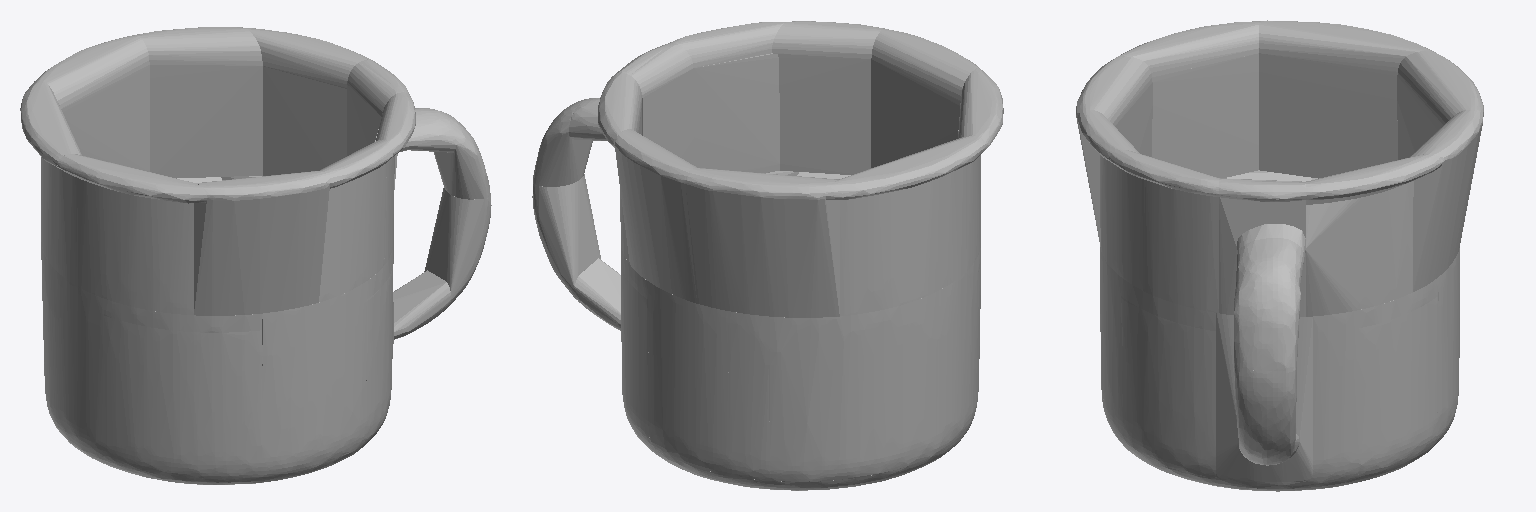
--- Facts derived from the render (not from the file) ---
The picture shows the robot from 3 angles, left to right: view 1: azimuth 30°, elevation 25°; view 2: azimuth 150°, elevation 25°; view 3: azimuth 270°, elevation 25°; orthographic projection.
Robot: root — 41 links, 40 joints (40 fixed); root link link_coacd_convex_piece_0; default pose: every joint at zero.
Links seen in each view (by area): view 1: link_coacd_convex_piece_26, link_coacd_convex_piece_1, link_coacd_convex_piece_5, link_coacd_convex_piece_11, link_coacd_convex_piece_24, link_coacd_convex_piece_2, link_coacd_convex_piece_15, link_coacd_convex_piece_10, link_coacd_convex_piece_21, link_coacd_convex_piece_38, link_coacd_convex_piece_0, link_coacd_convex_piece_8 (+15 smaller); view 2: link_coacd_convex_piece_37, link_coacd_convex_piece_2, link_coacd_convex_piece_12, link_coacd_convex_piece_21, link_coacd_convex_piece_1, link_coacd_convex_piece_5, link_coacd_convex_piece_17, link_coacd_convex_piece_40, link_coacd_convex_piece_36, link_coacd_convex_piece_34, link_coacd_convex_piece_15, link_coacd_convex_piece_35 (+13 smaller); view 3: link_coacd_convex_piece_12, link_coacd_convex_piece_14, link_coacd_convex_piece_10, link_coacd_convex_piece_27, link_coacd_convex_piece_11, link_coacd_convex_piece_17, link_coacd_convex_piece_5, link_coacd_convex_piece_9, link_coacd_convex_piece_19, link_coacd_convex_piece_2, link_coacd_convex_piece_1, link_coacd_convex_piece_7 (+18 smaller).
Boxes of the visible links, left/top/right/bottom form: link_coacd_convex_piece_26: left=104, top=316, right=262, bottom=477; link_coacd_convex_piece_1: left=194, top=171, right=329, bottom=315; link_coacd_convex_piece_5: left=137, top=27, right=262, bottom=178; link_coacd_convex_piece_11: left=77, top=178, right=193, bottom=314; link_coacd_convex_piece_24: left=260, top=300, right=326, bottom=474; link_coacd_convex_piece_2: left=38, top=35, right=149, bottom=171; link_coacd_convex_piece_15: left=53, top=268, right=108, bottom=458; link_coacd_convex_piece_10: left=263, top=66, right=346, bottom=175; link_coacd_convex_piece_21: left=319, top=163, right=386, bottom=301; link_coacd_convex_piece_38: left=324, top=281, right=366, bottom=461; link_coacd_convex_piece_0: left=424, top=188, right=491, bottom=305; link_coacd_convex_piece_8: left=246, top=28, right=370, bottom=88; link_coacd_convex_piece_37: left=769, top=305, right=903, bottom=481; link_coacd_convex_piece_2: left=685, top=168, right=839, bottom=317; link_coacd_convex_piece_12: left=840, top=165, right=966, bottom=315; link_coacd_convex_piece_21: left=778, top=54, right=870, bottom=174; link_coacd_convex_piece_1: left=871, top=29, right=978, bottom=167; link_coacd_convex_piece_5: left=615, top=129, right=696, bottom=303; link_coacd_convex_piece_17: left=694, top=53, right=779, bottom=172; link_coacd_convex_piece_40: left=728, top=311, right=771, bottom=480; link_coacd_convex_piece_36: left=648, top=281, right=690, bottom=465; link_coacd_convex_piece_34: left=689, top=301, right=730, bottom=475; link_coacd_convex_piece_15: left=934, top=257, right=977, bottom=455; link_coacd_convex_piece_35: left=897, top=291, right=938, bottom=468; link_coacd_convex_piece_12: left=1259, top=54, right=1397, bottom=178; link_coacd_convex_piece_14: left=1121, top=296, right=1215, bottom=477; link_coacd_convex_piece_10: left=1306, top=181, right=1413, bottom=316; link_coacd_convex_piece_27: left=1359, top=297, right=1438, bottom=473; link_coacd_convex_piece_11: left=1152, top=53, right=1258, bottom=177; link_coacd_convex_piece_17: left=1145, top=180, right=1218, bottom=312; link_coacd_convex_piece_5: left=1409, top=110, right=1482, bottom=291; link_coacd_convex_piece_9: left=1313, top=310, right=1358, bottom=480; link_coacd_convex_piece_19: left=1234, top=267, right=1300, bottom=370; link_coacd_convex_piece_2: left=1397, top=51, right=1483, bottom=159; link_coacd_convex_piece_1: left=1076, top=56, right=1152, bottom=246; link_coacd_convex_piece_7: left=1259, top=20, right=1433, bottom=72.
Bounding box of the posed robot: 1.62 × 1.29 × 1.14 m (x, y, z).
41 mesh visuals loaded from 41 distinct referenced files (41 OBJ).

URDF robot description (root):
<robot name="root">
  <link name="link_coacd_convex_piece_0">
    <inertial>
      <origin xyz="0 0 0" rpy="0 0 0"/>
      <inertia ixx="-5.64E-05" ixy="1.56E-04" ixz="4.06E-04" iyy="2.33E-03" iyz="-7.92E-06" izz="2.42E-03"/>
    </inertial>
    <visual>
      <origin xyz="0 0 0" rpy="0 0 0"/>
      <geometry>
        <mesh filename="coacd_convex_piece_0.obj" scale="1.0000E+00 1.0000E+00 1.0000E+00"/>
      </geometry>
      <material name="">
        <color rgba="7.50E-01 7.50E-01 7.50E-01 1"/>
      </material>
    </visual>
    <collision>
      <origin xyz="0 0 0" rpy="0 0 0"/>
      <geometry>
        <mesh filename="coacd_convex_piece_0.obj" scale="1.0000E+00 1.0000E+00 1.0000E+00"/>
      </geometry>
    </collision>
  </link>
  <link name="link_coacd_convex_piece_1">
    <inertial>
      <origin xyz="0 0 0" rpy="0 0 0"/>
      <inertia ixx="5.00E-03" ixy="-2.12E-03" ixz="1.77E-03" iyy="2.62E-03" iyz="2.43E-03" izz="4.86E-03"/>
    </inertial>
    <visual>
      <origin xyz="0 0 0" rpy="0 0 0"/>
      <geometry>
        <mesh filename="coacd_convex_piece_1.obj" scale="1.0000E+00 1.0000E+00 1.0000E+00"/>
      </geometry>
      <material name="">
        <color rgba="7.50E-01 7.50E-01 7.50E-01 1"/>
      </material>
    </visual>
    <collision>
      <origin xyz="0 0 0" rpy="0 0 0"/>
      <geometry>
        <mesh filename="coacd_convex_piece_1.obj" scale="1.0000E+00 1.0000E+00 1.0000E+00"/>
      </geometry>
    </collision>
  </link>
  <joint name="link_coacd_convex_piece_1_joint" type="fixed">
    <origin xyz="0 0 0" rpy="0 0 0"/>
    <parent link="link_coacd_convex_piece_0"/>
    <child link="link_coacd_convex_piece_1"/>
  </joint>
  <link name="link_coacd_convex_piece_2">
    <inertial>
      <origin xyz="0 0 0" rpy="0 0 0"/>
      <inertia ixx="5.86E-03" ixy="2.72E-03" ixz="2.26E-03" iyy="3.42E-03" iyz="-2.80E-03" izz="5.98E-03"/>
    </inertial>
    <visual>
      <origin xyz="0 0 0" rpy="0 0 0"/>
      <geometry>
        <mesh filename="coacd_convex_piece_2.obj" scale="1.0000E+00 1.0000E+00 1.0000E+00"/>
      </geometry>
      <material name="">
        <color rgba="7.50E-01 7.50E-01 7.50E-01 1"/>
      </material>
    </visual>
    <collision>
      <origin xyz="0 0 0" rpy="0 0 0"/>
      <geometry>
        <mesh filename="coacd_convex_piece_2.obj" scale="1.0000E+00 1.0000E+00 1.0000E+00"/>
      </geometry>
    </collision>
  </link>
  <joint name="link_coacd_convex_piece_2_joint" type="fixed">
    <origin xyz="0 0 0" rpy="0 0 0"/>
    <parent link="link_coacd_convex_piece_1"/>
    <child link="link_coacd_convex_piece_2"/>
  </joint>
  <link name="link_coacd_convex_piece_3">
    <inertial>
      <origin xyz="0 0 0" rpy="0 0 0"/>
      <inertia ixx="1.44E-04" ixy="4.68E-05" ixz="4.10E-04" iyy="7.30E-04" iyz="-2.02E-05" izz="6.02E-04"/>
    </inertial>
    <visual>
      <origin xyz="0 0 0" rpy="0 0 0"/>
      <geometry>
        <mesh filename="coacd_convex_piece_3.obj" scale="1.0000E+00 1.0000E+00 1.0000E+00"/>
      </geometry>
      <material name="">
        <color rgba="7.50E-01 7.50E-01 7.50E-01 1"/>
      </material>
    </visual>
    <collision>
      <origin xyz="0 0 0" rpy="0 0 0"/>
      <geometry>
        <mesh filename="coacd_convex_piece_3.obj" scale="1.0000E+00 1.0000E+00 1.0000E+00"/>
      </geometry>
    </collision>
  </link>
  <joint name="link_coacd_convex_piece_3_joint" type="fixed">
    <origin xyz="0 0 0" rpy="0 0 0"/>
    <parent link="link_coacd_convex_piece_2"/>
    <child link="link_coacd_convex_piece_3"/>
  </joint>
  <link name="link_coacd_convex_piece_4">
    <inertial>
      <origin xyz="0 0 0" rpy="0 0 0"/>
      <inertia ixx="1.12E-02" ixy="7.18E-05" ixz="-2.10E-03" iyy="1.15E-02" iyz="1.07E-04" izz="5.13E-03"/>
    </inertial>
    <visual>
      <origin xyz="0 0 0" rpy="0 0 0"/>
      <geometry>
        <mesh filename="coacd_convex_piece_4.obj" scale="1.0000E+00 1.0000E+00 1.0000E+00"/>
      </geometry>
      <material name="">
        <color rgba="7.50E-01 7.50E-01 7.50E-01 1"/>
      </material>
    </visual>
    <collision>
      <origin xyz="0 0 0" rpy="0 0 0"/>
      <geometry>
        <mesh filename="coacd_convex_piece_4.obj" scale="1.0000E+00 1.0000E+00 1.0000E+00"/>
      </geometry>
    </collision>
  </link>
  <joint name="link_coacd_convex_piece_4_joint" type="fixed">
    <origin xyz="0 0 0" rpy="0 0 0"/>
    <parent link="link_coacd_convex_piece_3"/>
    <child link="link_coacd_convex_piece_4"/>
  </joint>
  <link name="link_coacd_convex_piece_5">
    <inertial>
      <origin xyz="0 0 0" rpy="0 0 0"/>
      <inertia ixx="3.93E-03" ixy="-2.69E-04" ixz="4.60E-05" iyy="1.06E-03" iyz="-1.90E-03" izz="2.72E-03"/>
    </inertial>
    <visual>
      <origin xyz="0 0 0" rpy="0 0 0"/>
      <geometry>
        <mesh filename="coacd_convex_piece_5.obj" scale="1.0000E+00 1.0000E+00 1.0000E+00"/>
      </geometry>
      <material name="">
        <color rgba="7.50E-01 7.50E-01 7.50E-01 1"/>
      </material>
    </visual>
    <collision>
      <origin xyz="0 0 0" rpy="0 0 0"/>
      <geometry>
        <mesh filename="coacd_convex_piece_5.obj" scale="1.0000E+00 1.0000E+00 1.0000E+00"/>
      </geometry>
    </collision>
  </link>
  <joint name="link_coacd_convex_piece_5_joint" type="fixed">
    <origin xyz="0 0 0" rpy="0 0 0"/>
    <parent link="link_coacd_convex_piece_4"/>
    <child link="link_coacd_convex_piece_5"/>
  </joint>
  <link name="link_coacd_convex_piece_6">
    <inertial>
      <origin xyz="0 0 0" rpy="0 0 0"/>
      <inertia ixx="7.58E-04" ixy="-3.93E-04" ixz="8.27E-04" iyy="1.47E-03" iyz="3.37E-04" izz="1.13E-03"/>
    </inertial>
    <visual>
      <origin xyz="0 0 0" rpy="0 0 0"/>
      <geometry>
        <mesh filename="coacd_convex_piece_6.obj" scale="1.0000E+00 1.0000E+00 1.0000E+00"/>
      </geometry>
      <material name="">
        <color rgba="7.50E-01 7.50E-01 7.50E-01 1"/>
      </material>
    </visual>
    <collision>
      <origin xyz="0 0 0" rpy="0 0 0"/>
      <geometry>
        <mesh filename="coacd_convex_piece_6.obj" scale="1.0000E+00 1.0000E+00 1.0000E+00"/>
      </geometry>
    </collision>
  </link>
  <joint name="link_coacd_convex_piece_6_joint" type="fixed">
    <origin xyz="0 0 0" rpy="0 0 0"/>
    <parent link="link_coacd_convex_piece_5"/>
    <child link="link_coacd_convex_piece_6"/>
  </joint>
  <link name="link_coacd_convex_piece_7">
    <inertial>
      <origin xyz="0 0 0" rpy="0 0 0"/>
      <inertia ixx="8.98E-04" ixy="3.78E-04" ixz="1.13E-03" iyy="2.05E-03" iyz="-3.00E-04" izz="1.49E-03"/>
    </inertial>
    <visual>
      <origin xyz="0 0 0" rpy="0 0 0"/>
      <geometry>
        <mesh filename="coacd_convex_piece_7.obj" scale="1.0000E+00 1.0000E+00 1.0000E+00"/>
      </geometry>
      <material name="">
        <color rgba="7.50E-01 7.50E-01 7.50E-01 1"/>
      </material>
    </visual>
    <collision>
      <origin xyz="0 0 0" rpy="0 0 0"/>
      <geometry>
        <mesh filename="coacd_convex_piece_7.obj" scale="1.0000E+00 1.0000E+00 1.0000E+00"/>
      </geometry>
    </collision>
  </link>
  <joint name="link_coacd_convex_piece_7_joint" type="fixed">
    <origin xyz="0 0 0" rpy="0 0 0"/>
    <parent link="link_coacd_convex_piece_6"/>
    <child link="link_coacd_convex_piece_7"/>
  </joint>
  <link name="link_coacd_convex_piece_8">
    <inertial>
      <origin xyz="0 0 0" rpy="0 0 0"/>
      <inertia ixx="7.06E-04" ixy="-1.85E-04" ixz="-3.26E-04" iyy="7.31E-04" iyz="-3.06E-04" izz="3.97E-04"/>
    </inertial>
    <visual>
      <origin xyz="0 0 0" rpy="0 0 0"/>
      <geometry>
        <mesh filename="coacd_convex_piece_8.obj" scale="1.0000E+00 1.0000E+00 1.0000E+00"/>
      </geometry>
      <material name="">
        <color rgba="7.50E-01 7.50E-01 7.50E-01 1"/>
      </material>
    </visual>
    <collision>
      <origin xyz="0 0 0" rpy="0 0 0"/>
      <geometry>
        <mesh filename="coacd_convex_piece_8.obj" scale="1.0000E+00 1.0000E+00 1.0000E+00"/>
      </geometry>
    </collision>
  </link>
  <joint name="link_coacd_convex_piece_8_joint" type="fixed">
    <origin xyz="0 0 0" rpy="0 0 0"/>
    <parent link="link_coacd_convex_piece_7"/>
    <child link="link_coacd_convex_piece_8"/>
  </joint>
  <link name="link_coacd_convex_piece_9">
    <inertial>
      <origin xyz="0 0 0" rpy="0 0 0"/>
      <inertia ixx="8.65E-04" ixy="-5.23E-04" ixz="9.92E-04" iyy="1.03E-03" iyz="5.24E-04" izz="1.03E-03"/>
    </inertial>
    <visual>
      <origin xyz="0 0 0" rpy="0 0 0"/>
      <geometry>
        <mesh filename="coacd_convex_piece_9.obj" scale="1.0000E+00 1.0000E+00 1.0000E+00"/>
      </geometry>
      <material name="">
        <color rgba="7.50E-01 7.50E-01 7.50E-01 1"/>
      </material>
    </visual>
    <collision>
      <origin xyz="0 0 0" rpy="0 0 0"/>
      <geometry>
        <mesh filename="coacd_convex_piece_9.obj" scale="1.0000E+00 1.0000E+00 1.0000E+00"/>
      </geometry>
    </collision>
  </link>
  <joint name="link_coacd_convex_piece_9_joint" type="fixed">
    <origin xyz="0 0 0" rpy="0 0 0"/>
    <parent link="link_coacd_convex_piece_8"/>
    <child link="link_coacd_convex_piece_9"/>
  </joint>
  <link name="link_coacd_convex_piece_10">
    <inertial>
      <origin xyz="0 0 0" rpy="0 0 0"/>
      <inertia ixx="6.14E-04" ixy="-3.59E-04" ixz="-3.31E-04" iyy="7.37E-04" iyz="-3.25E-04" izz="7.69E-04"/>
    </inertial>
    <visual>
      <origin xyz="0 0 0" rpy="0 0 0"/>
      <geometry>
        <mesh filename="coacd_convex_piece_10.obj" scale="1.0000E+00 1.0000E+00 1.0000E+00"/>
      </geometry>
      <material name="">
        <color rgba="7.50E-01 7.50E-01 7.50E-01 1"/>
      </material>
    </visual>
    <collision>
      <origin xyz="0 0 0" rpy="0 0 0"/>
      <geometry>
        <mesh filename="coacd_convex_piece_10.obj" scale="1.0000E+00 1.0000E+00 1.0000E+00"/>
      </geometry>
    </collision>
  </link>
  <joint name="link_coacd_convex_piece_10_joint" type="fixed">
    <origin xyz="0 0 0" rpy="0 0 0"/>
    <parent link="link_coacd_convex_piece_9"/>
    <child link="link_coacd_convex_piece_10"/>
  </joint>
  <link name="link_coacd_convex_piece_11">
    <inertial>
      <origin xyz="0 0 0" rpy="0 0 0"/>
      <inertia ixx="8.49E-04" ixy="-9.59E-04" ixz="1.28E-03" iyy="2.77E-03" iyz="4.64E-04" izz="2.84E-03"/>
    </inertial>
    <visual>
      <origin xyz="0 0 0" rpy="0 0 0"/>
      <geometry>
        <mesh filename="coacd_convex_piece_11.obj" scale="1.0000E+00 1.0000E+00 1.0000E+00"/>
      </geometry>
      <material name="">
        <color rgba="7.50E-01 7.50E-01 7.50E-01 1"/>
      </material>
    </visual>
    <collision>
      <origin xyz="0 0 0" rpy="0 0 0"/>
      <geometry>
        <mesh filename="coacd_convex_piece_11.obj" scale="1.0000E+00 1.0000E+00 1.0000E+00"/>
      </geometry>
    </collision>
  </link>
  <joint name="link_coacd_convex_piece_11_joint" type="fixed">
    <origin xyz="0 0 0" rpy="0 0 0"/>
    <parent link="link_coacd_convex_piece_10"/>
    <child link="link_coacd_convex_piece_11"/>
  </joint>
  <link name="link_coacd_convex_piece_12">
    <inertial>
      <origin xyz="0 0 0" rpy="0 0 0"/>
      <inertia ixx="9.77E-04" ixy="1.00E-03" ixz="1.94E-03" iyy="4.35E-03" iyz="-4.31E-04" izz="4.19E-03"/>
    </inertial>
    <visual>
      <origin xyz="0 0 0" rpy="0 0 0"/>
      <geometry>
        <mesh filename="coacd_convex_piece_12.obj" scale="1.0000E+00 1.0000E+00 1.0000E+00"/>
      </geometry>
      <material name="">
        <color rgba="7.50E-01 7.50E-01 7.50E-01 1"/>
      </material>
    </visual>
    <collision>
      <origin xyz="0 0 0" rpy="0 0 0"/>
      <geometry>
        <mesh filename="coacd_convex_piece_12.obj" scale="1.0000E+00 1.0000E+00 1.0000E+00"/>
      </geometry>
    </collision>
  </link>
  <joint name="link_coacd_convex_piece_12_joint" type="fixed">
    <origin xyz="0 0 0" rpy="0 0 0"/>
    <parent link="link_coacd_convex_piece_11"/>
    <child link="link_coacd_convex_piece_12"/>
  </joint>
  <link name="link_coacd_convex_piece_13">
    <inertial>
      <origin xyz="0 0 0" rpy="0 0 0"/>
      <inertia ixx="7.75E-05" ixy="-5.49E-05" ixz="1.01E-05" iyy="3.50E-06" iyz="-1.11E-05" izz="1.24E-04"/>
    </inertial>
    <visual>
      <origin xyz="0 0 0" rpy="0 0 0"/>
      <geometry>
        <mesh filename="coacd_convex_piece_13.obj" scale="1.0000E+00 1.0000E+00 1.0000E+00"/>
      </geometry>
      <material name="">
        <color rgba="7.50E-01 7.50E-01 7.50E-01 1"/>
      </material>
    </visual>
    <collision>
      <origin xyz="0 0 0" rpy="0 0 0"/>
      <geometry>
        <mesh filename="coacd_convex_piece_13.obj" scale="1.0000E+00 1.0000E+00 1.0000E+00"/>
      </geometry>
    </collision>
  </link>
  <joint name="link_coacd_convex_piece_13_joint" type="fixed">
    <origin xyz="0 0 0" rpy="0 0 0"/>
    <parent link="link_coacd_convex_piece_12"/>
    <child link="link_coacd_convex_piece_13"/>
  </joint>
  <link name="link_coacd_convex_piece_14">
    <inertial>
      <origin xyz="0 0 0" rpy="0 0 0"/>
      <inertia ixx="2.39E-03" ixy="9.99E-04" ixz="1.17E-03" iyy="1.18E-03" iyz="-1.17E-03" izz="2.06E-03"/>
    </inertial>
    <visual>
      <origin xyz="0 0 0" rpy="0 0 0"/>
      <geometry>
        <mesh filename="coacd_convex_piece_14.obj" scale="1.0000E+00 1.0000E+00 1.0000E+00"/>
      </geometry>
      <material name="">
        <color rgba="7.50E-01 7.50E-01 7.50E-01 1"/>
      </material>
    </visual>
    <collision>
      <origin xyz="0 0 0" rpy="0 0 0"/>
      <geometry>
        <mesh filename="coacd_convex_piece_14.obj" scale="1.0000E+00 1.0000E+00 1.0000E+00"/>
      </geometry>
    </collision>
  </link>
  <joint name="link_coacd_convex_piece_14_joint" type="fixed">
    <origin xyz="0 0 0" rpy="0 0 0"/>
    <parent link="link_coacd_convex_piece_13"/>
    <child link="link_coacd_convex_piece_14"/>
  </joint>
  <link name="link_coacd_convex_piece_15">
    <inertial>
      <origin xyz="0 0 0" rpy="0 0 0"/>
      <inertia ixx="1.14E-03" ixy="-6.66E-04" ixz="-2.69E-03" iyy="9.68E-03" iyz="-2.23E-04" izz="9.02E-03"/>
    </inertial>
    <visual>
      <origin xyz="0 0 0" rpy="0 0 0"/>
      <geometry>
        <mesh filename="coacd_convex_piece_15.obj" scale="1.0000E+00 1.0000E+00 1.0000E+00"/>
      </geometry>
      <material name="">
        <color rgba="7.50E-01 7.50E-01 7.50E-01 1"/>
      </material>
    </visual>
    <collision>
      <origin xyz="0 0 0" rpy="0 0 0"/>
      <geometry>
        <mesh filename="coacd_convex_piece_15.obj" scale="1.0000E+00 1.0000E+00 1.0000E+00"/>
      </geometry>
    </collision>
  </link>
  <joint name="link_coacd_convex_piece_15_joint" type="fixed">
    <origin xyz="0 0 0" rpy="0 0 0"/>
    <parent link="link_coacd_convex_piece_14"/>
    <child link="link_coacd_convex_piece_15"/>
  </joint>
  <link name="link_coacd_convex_piece_16">
    <inertial>
      <origin xyz="0 0 0" rpy="0 0 0"/>
      <inertia ixx="5.21E-04" ixy="1.42E-04" ixz="-1.87E-04" iyy="4.49E-04" iyz="2.58E-04" izz="2.84E-04"/>
    </inertial>
    <visual>
      <origin xyz="0 0 0" rpy="0 0 0"/>
      <geometry>
        <mesh filename="coacd_convex_piece_16.obj" scale="1.0000E+00 1.0000E+00 1.0000E+00"/>
      </geometry>
      <material name="">
        <color rgba="7.50E-01 7.50E-01 7.50E-01 1"/>
      </material>
    </visual>
    <collision>
      <origin xyz="0 0 0" rpy="0 0 0"/>
      <geometry>
        <mesh filename="coacd_convex_piece_16.obj" scale="1.0000E+00 1.0000E+00 1.0000E+00"/>
      </geometry>
    </collision>
  </link>
  <joint name="link_coacd_convex_piece_16_joint" type="fixed">
    <origin xyz="0 0 0" rpy="0 0 0"/>
    <parent link="link_coacd_convex_piece_15"/>
    <child link="link_coacd_convex_piece_16"/>
  </joint>
  <link name="link_coacd_convex_piece_17">
    <inertial>
      <origin xyz="0 0 0" rpy="0 0 0"/>
      <inertia ixx="6.45E-04" ixy="3.31E-04" ixz="-2.08E-04" iyy="4.70E-04" iyz="3.57E-04" izz="6.32E-04"/>
    </inertial>
    <visual>
      <origin xyz="0 0 0" rpy="0 0 0"/>
      <geometry>
        <mesh filename="coacd_convex_piece_17.obj" scale="1.0000E+00 1.0000E+00 1.0000E+00"/>
      </geometry>
      <material name="">
        <color rgba="7.50E-01 7.50E-01 7.50E-01 1"/>
      </material>
    </visual>
    <collision>
      <origin xyz="0 0 0" rpy="0 0 0"/>
      <geometry>
        <mesh filename="coacd_convex_piece_17.obj" scale="1.0000E+00 1.0000E+00 1.0000E+00"/>
      </geometry>
    </collision>
  </link>
  <joint name="link_coacd_convex_piece_17_joint" type="fixed">
    <origin xyz="0 0 0" rpy="0 0 0"/>
    <parent link="link_coacd_convex_piece_16"/>
    <child link="link_coacd_convex_piece_17"/>
  </joint>
  <link name="link_coacd_convex_piece_18">
    <inertial>
      <origin xyz="0 0 0" rpy="0 0 0"/>
      <inertia ixx="8.78E-05" ixy="7.36E-05" ixz="1.27E-05" iyy="1.15E-05" iyz="1.68E-05" izz="1.55E-04"/>
    </inertial>
    <visual>
      <origin xyz="0 0 0" rpy="0 0 0"/>
      <geometry>
        <mesh filename="coacd_convex_piece_18.obj" scale="1.0000E+00 1.0000E+00 1.0000E+00"/>
      </geometry>
      <material name="">
        <color rgba="7.50E-01 7.50E-01 7.50E-01 1"/>
      </material>
    </visual>
    <collision>
      <origin xyz="0 0 0" rpy="0 0 0"/>
      <geometry>
        <mesh filename="coacd_convex_piece_18.obj" scale="1.0000E+00 1.0000E+00 1.0000E+00"/>
      </geometry>
    </collision>
  </link>
  <joint name="link_coacd_convex_piece_18_joint" type="fixed">
    <origin xyz="0 0 0" rpy="0 0 0"/>
    <parent link="link_coacd_convex_piece_17"/>
    <child link="link_coacd_convex_piece_18"/>
  </joint>
  <link name="link_coacd_convex_piece_19">
    <inertial>
      <origin xyz="0 0 0" rpy="0 0 0"/>
      <inertia ixx="5.36E-05" ixy="1.02E-04" ixz="-3.85E-04" iyy="1.67E-03" iyz="3.27E-05" izz="1.65E-03"/>
    </inertial>
    <visual>
      <origin xyz="0 0 0" rpy="0 0 0"/>
      <geometry>
        <mesh filename="coacd_convex_piece_19.obj" scale="1.0000E+00 1.0000E+00 1.0000E+00"/>
      </geometry>
      <material name="">
        <color rgba="7.50E-01 7.50E-01 7.50E-01 1"/>
      </material>
    </visual>
    <collision>
      <origin xyz="0 0 0" rpy="0 0 0"/>
      <geometry>
        <mesh filename="coacd_convex_piece_19.obj" scale="1.0000E+00 1.0000E+00 1.0000E+00"/>
      </geometry>
    </collision>
  </link>
  <joint name="link_coacd_convex_piece_19_joint" type="fixed">
    <origin xyz="0 0 0" rpy="0 0 0"/>
    <parent link="link_coacd_convex_piece_18"/>
    <child link="link_coacd_convex_piece_19"/>
  </joint>
  <link name="link_coacd_convex_piece_20">
    <inertial>
      <origin xyz="0 0 0" rpy="0 0 0"/>
      <inertia ixx="7.12E-04" ixy="2.58E-05" ixz="6.51E-06" iyy="3.10E-04" iyz="3.79E-04" izz="3.73E-04"/>
    </inertial>
    <visual>
      <origin xyz="0 0 0" rpy="0 0 0"/>
      <geometry>
        <mesh filename="coacd_convex_piece_20.obj" scale="1.0000E+00 1.0000E+00 1.0000E+00"/>
      </geometry>
      <material name="">
        <color rgba="7.50E-01 7.50E-01 7.50E-01 1"/>
      </material>
    </visual>
    <collision>
      <origin xyz="0 0 0" rpy="0 0 0"/>
      <geometry>
        <mesh filename="coacd_convex_piece_20.obj" scale="1.0000E+00 1.0000E+00 1.0000E+00"/>
      </geometry>
    </collision>
  </link>
  <joint name="link_coacd_convex_piece_20_joint" type="fixed">
    <origin xyz="0 0 0" rpy="0 0 0"/>
    <parent link="link_coacd_convex_piece_19"/>
    <child link="link_coacd_convex_piece_20"/>
  </joint>
  <link name="link_coacd_convex_piece_21">
    <inertial>
      <origin xyz="0 0 0" rpy="0 0 0"/>
      <inertia ixx="1.33E-03" ixy="8.22E-05" ixz="5.41E-05" iyy="2.26E-04" iyz="6.16E-04" izz="1.02E-03"/>
    </inertial>
    <visual>
      <origin xyz="0 0 0" rpy="0 0 0"/>
      <geometry>
        <mesh filename="coacd_convex_piece_21.obj" scale="1.0000E+00 1.0000E+00 1.0000E+00"/>
      </geometry>
      <material name="">
        <color rgba="7.50E-01 7.50E-01 7.50E-01 1"/>
      </material>
    </visual>
    <collision>
      <origin xyz="0 0 0" rpy="0 0 0"/>
      <geometry>
        <mesh filename="coacd_convex_piece_21.obj" scale="1.0000E+00 1.0000E+00 1.0000E+00"/>
      </geometry>
    </collision>
  </link>
  <joint name="link_coacd_convex_piece_21_joint" type="fixed">
    <origin xyz="0 0 0" rpy="0 0 0"/>
    <parent link="link_coacd_convex_piece_20"/>
    <child link="link_coacd_convex_piece_21"/>
  </joint>
  <link name="link_coacd_convex_piece_22">
    <inertial>
      <origin xyz="0 0 0" rpy="0 0 0"/>
      <inertia ixx="1.54E-04" ixy="3.98E-05" ixz="-3.13E-04" iyy="7.42E-04" iyz="2.47E-05" izz="6.03E-04"/>
    </inertial>
    <visual>
      <origin xyz="0 0 0" rpy="0 0 0"/>
      <geometry>
        <mesh filename="coacd_convex_piece_22.obj" scale="1.0000E+00 1.0000E+00 1.0000E+00"/>
      </geometry>
      <material name="">
        <color rgba="7.50E-01 7.50E-01 7.50E-01 1"/>
      </material>
    </visual>
    <collision>
      <origin xyz="0 0 0" rpy="0 0 0"/>
      <geometry>
        <mesh filename="coacd_convex_piece_22.obj" scale="1.0000E+00 1.0000E+00 1.0000E+00"/>
      </geometry>
    </collision>
  </link>
  <joint name="link_coacd_convex_piece_22_joint" type="fixed">
    <origin xyz="0 0 0" rpy="0 0 0"/>
    <parent link="link_coacd_convex_piece_21"/>
    <child link="link_coacd_convex_piece_22"/>
  </joint>
  <link name="link_coacd_convex_piece_23">
    <inertial>
      <origin xyz="0 0 0" rpy="0 0 0"/>
      <inertia ixx="3.34E-03" ixy="-1.26E-03" ixz="-3.86E-04" iyy="1.12E-03" iyz="-1.56E-03" izz="3.05E-03"/>
    </inertial>
    <visual>
      <origin xyz="0 0 0" rpy="0 0 0"/>
      <geometry>
        <mesh filename="coacd_convex_piece_23.obj" scale="1.0000E+00 1.0000E+00 1.0000E+00"/>
      </geometry>
      <material name="">
        <color rgba="7.50E-01 7.50E-01 7.50E-01 1"/>
      </material>
    </visual>
    <collision>
      <origin xyz="0 0 0" rpy="0 0 0"/>
      <geometry>
        <mesh filename="coacd_convex_piece_23.obj" scale="1.0000E+00 1.0000E+00 1.0000E+00"/>
      </geometry>
    </collision>
  </link>
  <joint name="link_coacd_convex_piece_23_joint" type="fixed">
    <origin xyz="0 0 0" rpy="0 0 0"/>
    <parent link="link_coacd_convex_piece_22"/>
    <child link="link_coacd_convex_piece_23"/>
  </joint>
  <link name="link_coacd_convex_piece_24">
    <inertial>
      <origin xyz="0 0 0" rpy="0 0 0"/>
      <inertia ixx="1.44E-03" ixy="-4.47E-04" ixz="-6.47E-05" iyy="2.63E-04" iyz="-4.83E-04" izz="1.37E-03"/>
    </inertial>
    <visual>
      <origin xyz="0 0 0" rpy="0 0 0"/>
      <geometry>
        <mesh filename="coacd_convex_piece_24.obj" scale="1.0000E+00 1.0000E+00 1.0000E+00"/>
      </geometry>
      <material name="">
        <color rgba="7.50E-01 7.50E-01 7.50E-01 1"/>
      </material>
    </visual>
    <collision>
      <origin xyz="0 0 0" rpy="0 0 0"/>
      <geometry>
        <mesh filename="coacd_convex_piece_24.obj" scale="1.0000E+00 1.0000E+00 1.0000E+00"/>
      </geometry>
    </collision>
  </link>
  <joint name="link_coacd_convex_piece_24_joint" type="fixed">
    <origin xyz="0 0 0" rpy="0 0 0"/>
    <parent link="link_coacd_convex_piece_23"/>
    <child link="link_coacd_convex_piece_24"/>
  </joint>
  <link name="link_coacd_convex_piece_25">
    <inertial>
      <origin xyz="0 0 0" rpy="0 0 0"/>
      <inertia ixx="4.60E-04" ixy="1.20E-04" ixz="-4.62E-04" iyy="1.01E-03" iyz="1.08E-04" izz="6.44E-04"/>
    </inertial>
    <visual>
      <origin xyz="0 0 0" rpy="0 0 0"/>
      <geometry>
        <mesh filename="coacd_convex_piece_25.obj" scale="1.0000E+00 1.0000E+00 1.0000E+00"/>
      </geometry>
      <material name="">
        <color rgba="7.50E-01 7.50E-01 7.50E-01 1"/>
      </material>
    </visual>
    <collision>
      <origin xyz="0 0 0" rpy="0 0 0"/>
      <geometry>
        <mesh filename="coacd_convex_piece_25.obj" scale="1.0000E+00 1.0000E+00 1.0000E+00"/>
      </geometry>
    </collision>
  </link>
  <joint name="link_coacd_convex_piece_25_joint" type="fixed">
    <origin xyz="0 0 0" rpy="0 0 0"/>
    <parent link="link_coacd_convex_piece_24"/>
    <child link="link_coacd_convex_piece_25"/>
  </joint>
  <link name="link_coacd_convex_piece_26">
    <inertial>
      <origin xyz="0 0 0" rpy="0 0 0"/>
      <inertia ixx="4.61E-03" ixy="-4.24E-03" ixz="-2.43E-03" iyy="7.13E-03" iyz="-2.19E-03" izz="9.25E-03"/>
    </inertial>
    <visual>
      <origin xyz="0 0 0" rpy="0 0 0"/>
      <geometry>
        <mesh filename="coacd_convex_piece_26.obj" scale="1.0000E+00 1.0000E+00 1.0000E+00"/>
      </geometry>
      <material name="">
        <color rgba="7.50E-01 7.50E-01 7.50E-01 1"/>
      </material>
    </visual>
    <collision>
      <origin xyz="0 0 0" rpy="0 0 0"/>
      <geometry>
        <mesh filename="coacd_convex_piece_26.obj" scale="1.0000E+00 1.0000E+00 1.0000E+00"/>
      </geometry>
    </collision>
  </link>
  <joint name="link_coacd_convex_piece_26_joint" type="fixed">
    <origin xyz="0 0 0" rpy="0 0 0"/>
    <parent link="link_coacd_convex_piece_25"/>
    <child link="link_coacd_convex_piece_26"/>
  </joint>
  <link name="link_coacd_convex_piece_27">
    <inertial>
      <origin xyz="0 0 0" rpy="0 0 0"/>
      <inertia ixx="1.89E-03" ixy="-7.35E-04" ixz="8.19E-04" iyy="7.64E-04" iyz="9.56E-04" izz="1.66E-03"/>
    </inertial>
    <visual>
      <origin xyz="0 0 0" rpy="0 0 0"/>
      <geometry>
        <mesh filename="coacd_convex_piece_27.obj" scale="1.0000E+00 1.0000E+00 1.0000E+00"/>
      </geometry>
      <material name="">
        <color rgba="7.50E-01 7.50E-01 7.50E-01 1"/>
      </material>
    </visual>
    <collision>
      <origin xyz="0 0 0" rpy="0 0 0"/>
      <geometry>
        <mesh filename="coacd_convex_piece_27.obj" scale="1.0000E+00 1.0000E+00 1.0000E+00"/>
      </geometry>
    </collision>
  </link>
  <joint name="link_coacd_convex_piece_27_joint" type="fixed">
    <origin xyz="0 0 0" rpy="0 0 0"/>
    <parent link="link_coacd_convex_piece_26"/>
    <child link="link_coacd_convex_piece_27"/>
  </joint>
  <link name="link_coacd_convex_piece_28">
    <inertial>
      <origin xyz="0 0 0" rpy="0 0 0"/>
      <inertia ixx="1.23E-04" ixy="9.87E-06" ixz="-9.97E-05" iyy="2.03E-04" iyz="1.22E-05" izz="8.67E-05"/>
    </inertial>
    <visual>
      <origin xyz="0 0 0" rpy="0 0 0"/>
      <geometry>
        <mesh filename="coacd_convex_piece_28.obj" scale="1.0000E+00 1.0000E+00 1.0000E+00"/>
      </geometry>
      <material name="">
        <color rgba="7.50E-01 7.50E-01 7.50E-01 1"/>
      </material>
    </visual>
    <collision>
      <origin xyz="0 0 0" rpy="0 0 0"/>
      <geometry>
        <mesh filename="coacd_convex_piece_28.obj" scale="1.0000E+00 1.0000E+00 1.0000E+00"/>
      </geometry>
    </collision>
  </link>
  <joint name="link_coacd_convex_piece_28_joint" type="fixed">
    <origin xyz="0 0 0" rpy="0 0 0"/>
    <parent link="link_coacd_convex_piece_27"/>
    <child link="link_coacd_convex_piece_28"/>
  </joint>
  <link name="link_coacd_convex_piece_29">
    <inertial>
      <origin xyz="0 0 0" rpy="0 0 0"/>
      <inertia ixx="3.05E-05" ixy="-9.19E-05" ixz="2.86E-05" iyy="1.72E-04" iyz="8.47E-06" izz="2.34E-04"/>
    </inertial>
    <visual>
      <origin xyz="0 0 0" rpy="0 0 0"/>
      <geometry>
        <mesh filename="coacd_convex_piece_29.obj" scale="1.0000E+00 1.0000E+00 1.0000E+00"/>
      </geometry>
      <material name="">
        <color rgba="7.50E-01 7.50E-01 7.50E-01 1"/>
      </material>
    </visual>
    <collision>
      <origin xyz="0 0 0" rpy="0 0 0"/>
      <geometry>
        <mesh filename="coacd_convex_piece_29.obj" scale="1.0000E+00 1.0000E+00 1.0000E+00"/>
      </geometry>
    </collision>
  </link>
  <joint name="link_coacd_convex_piece_29_joint" type="fixed">
    <origin xyz="0 0 0" rpy="0 0 0"/>
    <parent link="link_coacd_convex_piece_28"/>
    <child link="link_coacd_convex_piece_29"/>
  </joint>
  <link name="link_coacd_convex_piece_30">
    <inertial>
      <origin xyz="0 0 0" rpy="0 0 0"/>
      <inertia ixx="9.91E-05" ixy="-1.04E-04" ixz="2.42E-05" iyy="7.40E-05" iyz="1.31E-05" izz="2.05E-04"/>
    </inertial>
    <visual>
      <origin xyz="0 0 0" rpy="0 0 0"/>
      <geometry>
        <mesh filename="coacd_convex_piece_30.obj" scale="1.0000E+00 1.0000E+00 1.0000E+00"/>
      </geometry>
      <material name="">
        <color rgba="7.50E-01 7.50E-01 7.50E-01 1"/>
      </material>
    </visual>
    <collision>
      <origin xyz="0 0 0" rpy="0 0 0"/>
      <geometry>
        <mesh filename="coacd_convex_piece_30.obj" scale="1.0000E+00 1.0000E+00 1.0000E+00"/>
      </geometry>
    </collision>
  </link>
  <joint name="link_coacd_convex_piece_30_joint" type="fixed">
    <origin xyz="0 0 0" rpy="0 0 0"/>
    <parent link="link_coacd_convex_piece_29"/>
    <child link="link_coacd_convex_piece_30"/>
  </joint>
  <link name="link_coacd_convex_piece_31">
    <inertial>
      <origin xyz="0 0 0" rpy="0 0 0"/>
      <inertia ixx="7.94E-05" ixy="1.12E-05" ixz="-1.15E-04" iyy="2.38E-04" iyz="9.27E-06" izz="1.65E-04"/>
    </inertial>
    <visual>
      <origin xyz="0 0 0" rpy="0 0 0"/>
      <geometry>
        <mesh filename="coacd_convex_piece_31.obj" scale="1.0000E+00 1.0000E+00 1.0000E+00"/>
      </geometry>
      <material name="">
        <color rgba="7.50E-01 7.50E-01 7.50E-01 1"/>
      </material>
    </visual>
    <collision>
      <origin xyz="0 0 0" rpy="0 0 0"/>
      <geometry>
        <mesh filename="coacd_convex_piece_31.obj" scale="1.0000E+00 1.0000E+00 1.0000E+00"/>
      </geometry>
    </collision>
  </link>
  <joint name="link_coacd_convex_piece_31_joint" type="fixed">
    <origin xyz="0 0 0" rpy="0 0 0"/>
    <parent link="link_coacd_convex_piece_30"/>
    <child link="link_coacd_convex_piece_31"/>
  </joint>
  <link name="link_coacd_convex_piece_32">
    <inertial>
      <origin xyz="0 0 0" rpy="0 0 0"/>
      <inertia ixx="3.81E-04" ixy="1.20E-04" ixz="8.29E-04" iyy="1.01E-03" iyz="-6.78E-05" izz="6.72E-04"/>
    </inertial>
    <visual>
      <origin xyz="0 0 0" rpy="0 0 0"/>
      <geometry>
        <mesh filename="coacd_convex_piece_32.obj" scale="1.0000E+00 1.0000E+00 1.0000E+00"/>
      </geometry>
      <material name="">
        <color rgba="7.50E-01 7.50E-01 7.50E-01 1"/>
      </material>
    </visual>
    <collision>
      <origin xyz="0 0 0" rpy="0 0 0"/>
      <geometry>
        <mesh filename="coacd_convex_piece_32.obj" scale="1.0000E+00 1.0000E+00 1.0000E+00"/>
      </geometry>
    </collision>
  </link>
  <joint name="link_coacd_convex_piece_32_joint" type="fixed">
    <origin xyz="0 0 0" rpy="0 0 0"/>
    <parent link="link_coacd_convex_piece_31"/>
    <child link="link_coacd_convex_piece_32"/>
  </joint>
  <link name="link_coacd_convex_piece_33">
    <inertial>
      <origin xyz="0 0 0" rpy="0 0 0"/>
      <inertia ixx="3.14E-04" ixy="-1.15E-04" ixz="6.80E-04" iyy="8.17E-04" iyz="1.14E-04" izz="5.63E-04"/>
    </inertial>
    <visual>
      <origin xyz="0 0 0" rpy="0 0 0"/>
      <geometry>
        <mesh filename="coacd_convex_piece_33.obj" scale="1.0000E+00 1.0000E+00 1.0000E+00"/>
      </geometry>
      <material name="">
        <color rgba="7.50E-01 7.50E-01 7.50E-01 1"/>
      </material>
    </visual>
    <collision>
      <origin xyz="0 0 0" rpy="0 0 0"/>
      <geometry>
        <mesh filename="coacd_convex_piece_33.obj" scale="1.0000E+00 1.0000E+00 1.0000E+00"/>
      </geometry>
    </collision>
  </link>
  <joint name="link_coacd_convex_piece_33_joint" type="fixed">
    <origin xyz="0 0 0" rpy="0 0 0"/>
    <parent link="link_coacd_convex_piece_32"/>
    <child link="link_coacd_convex_piece_33"/>
  </joint>
  <link name="link_coacd_convex_piece_34">
    <inertial>
      <origin xyz="0 0 0" rpy="0 0 0"/>
      <inertia ixx="2.58E-03" ixy="7.55E-04" ixz="-7.60E-05" iyy="3.88E-04" iyz="1.04E-03" izz="2.32E-03"/>
    </inertial>
    <visual>
      <origin xyz="0 0 0" rpy="0 0 0"/>
      <geometry>
        <mesh filename="coacd_convex_piece_34.obj" scale="1.0000E+00 1.0000E+00 1.0000E+00"/>
      </geometry>
      <material name="">
        <color rgba="7.50E-01 7.50E-01 7.50E-01 1"/>
      </material>
    </visual>
    <collision>
      <origin xyz="0 0 0" rpy="0 0 0"/>
      <geometry>
        <mesh filename="coacd_convex_piece_34.obj" scale="1.0000E+00 1.0000E+00 1.0000E+00"/>
      </geometry>
    </collision>
  </link>
  <joint name="link_coacd_convex_piece_34_joint" type="fixed">
    <origin xyz="0 0 0" rpy="0 0 0"/>
    <parent link="link_coacd_convex_piece_33"/>
    <child link="link_coacd_convex_piece_34"/>
  </joint>
  <link name="link_coacd_convex_piece_35">
    <inertial>
      <origin xyz="0 0 0" rpy="0 0 0"/>
      <inertia ixx="8.14E-04" ixy="1.28E-03" ixz="-1.23E-03" iyy="4.40E-03" iyz="4.98E-04" izz="4.41E-03"/>
    </inertial>
    <visual>
      <origin xyz="0 0 0" rpy="0 0 0"/>
      <geometry>
        <mesh filename="coacd_convex_piece_35.obj" scale="1.0000E+00 1.0000E+00 1.0000E+00"/>
      </geometry>
      <material name="">
        <color rgba="7.50E-01 7.50E-01 7.50E-01 1"/>
      </material>
    </visual>
    <collision>
      <origin xyz="0 0 0" rpy="0 0 0"/>
      <geometry>
        <mesh filename="coacd_convex_piece_35.obj" scale="1.0000E+00 1.0000E+00 1.0000E+00"/>
      </geometry>
    </collision>
  </link>
  <joint name="link_coacd_convex_piece_35_joint" type="fixed">
    <origin xyz="0 0 0" rpy="0 0 0"/>
    <parent link="link_coacd_convex_piece_34"/>
    <child link="link_coacd_convex_piece_35"/>
  </joint>
  <link name="link_coacd_convex_piece_36">
    <inertial>
      <origin xyz="0 0 0" rpy="0 0 0"/>
      <inertia ixx="3.16E-03" ixy="-4.51E-05" ixz="4.15E-04" iyy="2.49E-04" iyz="1.35E-03" izz="2.44E-03"/>
    </inertial>
    <visual>
      <origin xyz="0 0 0" rpy="0 0 0"/>
      <geometry>
        <mesh filename="coacd_convex_piece_36.obj" scale="1.0000E+00 1.0000E+00 1.0000E+00"/>
      </geometry>
      <material name="">
        <color rgba="7.50E-01 7.50E-01 7.50E-01 1"/>
      </material>
    </visual>
    <collision>
      <origin xyz="0 0 0" rpy="0 0 0"/>
      <geometry>
        <mesh filename="coacd_convex_piece_36.obj" scale="1.0000E+00 1.0000E+00 1.0000E+00"/>
      </geometry>
    </collision>
  </link>
  <joint name="link_coacd_convex_piece_36_joint" type="fixed">
    <origin xyz="0 0 0" rpy="0 0 0"/>
    <parent link="link_coacd_convex_piece_35"/>
    <child link="link_coacd_convex_piece_36"/>
  </joint>
  <link name="link_coacd_convex_piece_37">
    <inertial>
      <origin xyz="0 0 0" rpy="0 0 0"/>
      <inertia ixx="3.26E-03" ixy="3.33E-03" ixz="-1.45E-03" iyy="4.90E-03" iyz="1.47E-03" izz="6.85E-03"/>
    </inertial>
    <visual>
      <origin xyz="0 0 0" rpy="0 0 0"/>
      <geometry>
        <mesh filename="coacd_convex_piece_37.obj" scale="1.0000E+00 1.0000E+00 1.0000E+00"/>
      </geometry>
      <material name="">
        <color rgba="7.50E-01 7.50E-01 7.50E-01 1"/>
      </material>
    </visual>
    <collision>
      <origin xyz="0 0 0" rpy="0 0 0"/>
      <geometry>
        <mesh filename="coacd_convex_piece_37.obj" scale="1.0000E+00 1.0000E+00 1.0000E+00"/>
      </geometry>
    </collision>
  </link>
  <joint name="link_coacd_convex_piece_37_joint" type="fixed">
    <origin xyz="0 0 0" rpy="0 0 0"/>
    <parent link="link_coacd_convex_piece_36"/>
    <child link="link_coacd_convex_piece_37"/>
  </joint>
  <link name="link_coacd_convex_piece_38">
    <inertial>
      <origin xyz="0 0 0" rpy="0 0 0"/>
      <inertia ixx="3.73E-03" ixy="1.03E-04" ixz="5.05E-04" iyy="4.70E-04" iyz="-1.60E-03" izz="2.69E-03"/>
    </inertial>
    <visual>
      <origin xyz="0 0 0" rpy="0 0 0"/>
      <geometry>
        <mesh filename="coacd_convex_piece_38.obj" scale="1.0000E+00 1.0000E+00 1.0000E+00"/>
      </geometry>
      <material name="">
        <color rgba="7.50E-01 7.50E-01 7.50E-01 1"/>
      </material>
    </visual>
    <collision>
      <origin xyz="0 0 0" rpy="0 0 0"/>
      <geometry>
        <mesh filename="coacd_convex_piece_38.obj" scale="1.0000E+00 1.0000E+00 1.0000E+00"/>
      </geometry>
    </collision>
  </link>
  <joint name="link_coacd_convex_piece_38_joint" type="fixed">
    <origin xyz="0 0 0" rpy="0 0 0"/>
    <parent link="link_coacd_convex_piece_37"/>
    <child link="link_coacd_convex_piece_38"/>
  </joint>
  <link name="link_coacd_convex_piece_39">
    <inertial>
      <origin xyz="0 0 0" rpy="0 0 0"/>
      <inertia ixx="6.35E-04" ixy="4.02E-04" ixz="8.55E-04" iyy="9.67E-04" iyz="-3.29E-04" izz="8.05E-04"/>
    </inertial>
    <visual>
      <origin xyz="0 0 0" rpy="0 0 0"/>
      <geometry>
        <mesh filename="coacd_convex_piece_39.obj" scale="1.0000E+00 1.0000E+00 1.0000E+00"/>
      </geometry>
      <material name="">
        <color rgba="7.50E-01 7.50E-01 7.50E-01 1"/>
      </material>
    </visual>
    <collision>
      <origin xyz="0 0 0" rpy="0 0 0"/>
      <geometry>
        <mesh filename="coacd_convex_piece_39.obj" scale="1.0000E+00 1.0000E+00 1.0000E+00"/>
      </geometry>
    </collision>
  </link>
  <joint name="link_coacd_convex_piece_39_joint" type="fixed">
    <origin xyz="0 0 0" rpy="0 0 0"/>
    <parent link="link_coacd_convex_piece_38"/>
    <child link="link_coacd_convex_piece_39"/>
  </joint>
  <link name="link_coacd_convex_piece_40">
    <inertial>
      <origin xyz="0 0 0" rpy="0 0 0"/>
      <inertia ixx="2.29E-03" ixy="1.31E-03" ixz="-3.75E-04" iyy="1.01E-03" iyz="9.51E-04" izz="2.68E-03"/>
    </inertial>
    <visual>
      <origin xyz="0 0 0" rpy="0 0 0"/>
      <geometry>
        <mesh filename="coacd_convex_piece_40.obj" scale="1.0000E+00 1.0000E+00 1.0000E+00"/>
      </geometry>
      <material name="">
        <color rgba="7.50E-01 7.50E-01 7.50E-01 1"/>
      </material>
    </visual>
    <collision>
      <origin xyz="0 0 0" rpy="0 0 0"/>
      <geometry>
        <mesh filename="coacd_convex_piece_40.obj" scale="1.0000E+00 1.0000E+00 1.0000E+00"/>
      </geometry>
    </collision>
  </link>
  <joint name="link_coacd_convex_piece_40_joint" type="fixed">
    <origin xyz="0 0 0" rpy="0 0 0"/>
    <parent link="link_coacd_convex_piece_39"/>
    <child link="link_coacd_convex_piece_40"/>
  </joint>
</robot>
